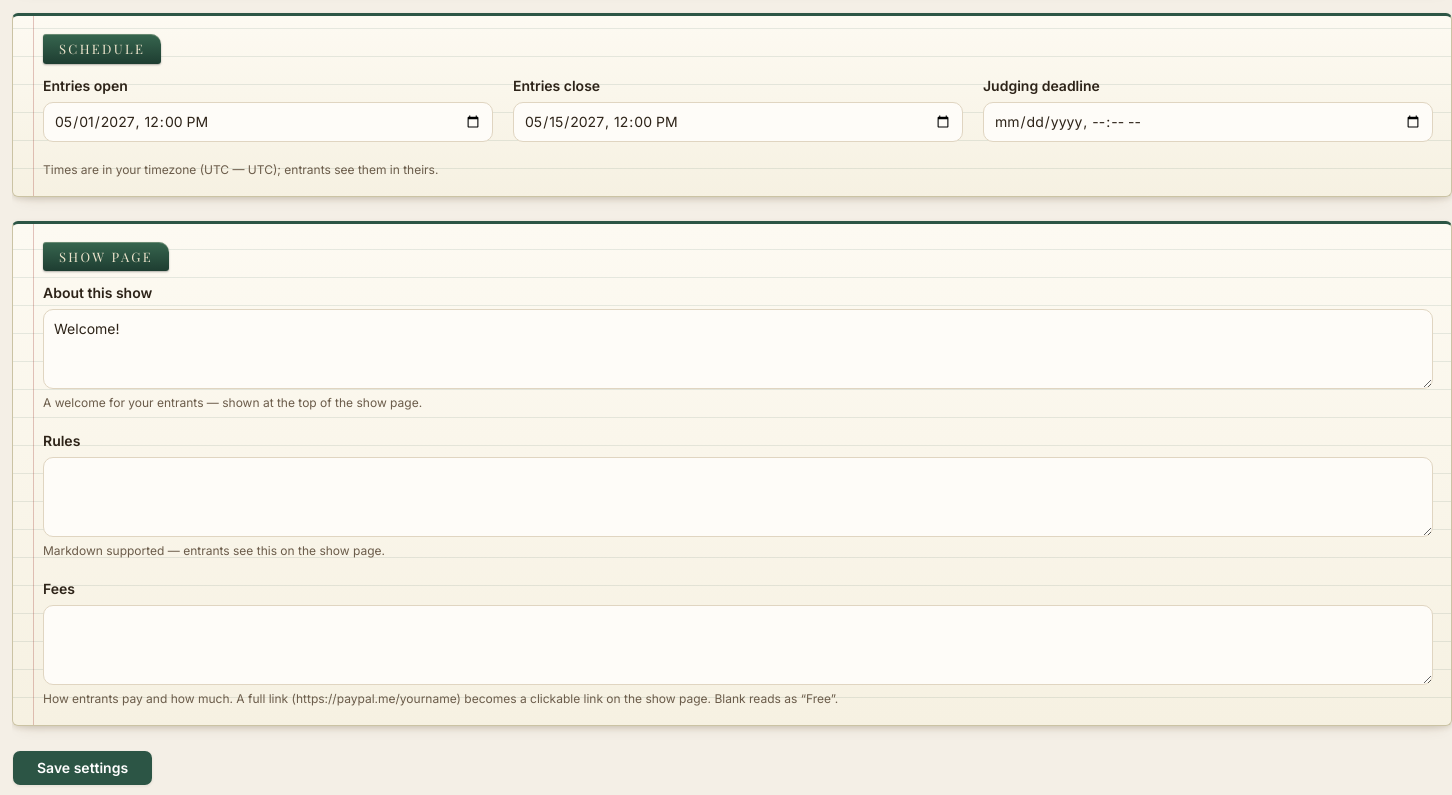
Test: ShowSettingsForm — draft locks and saving › refuses to save when nothing changed
(page scrolled)
Click the button with test id "settings-save".
click(83, 768)  # box [12,750,153,786]
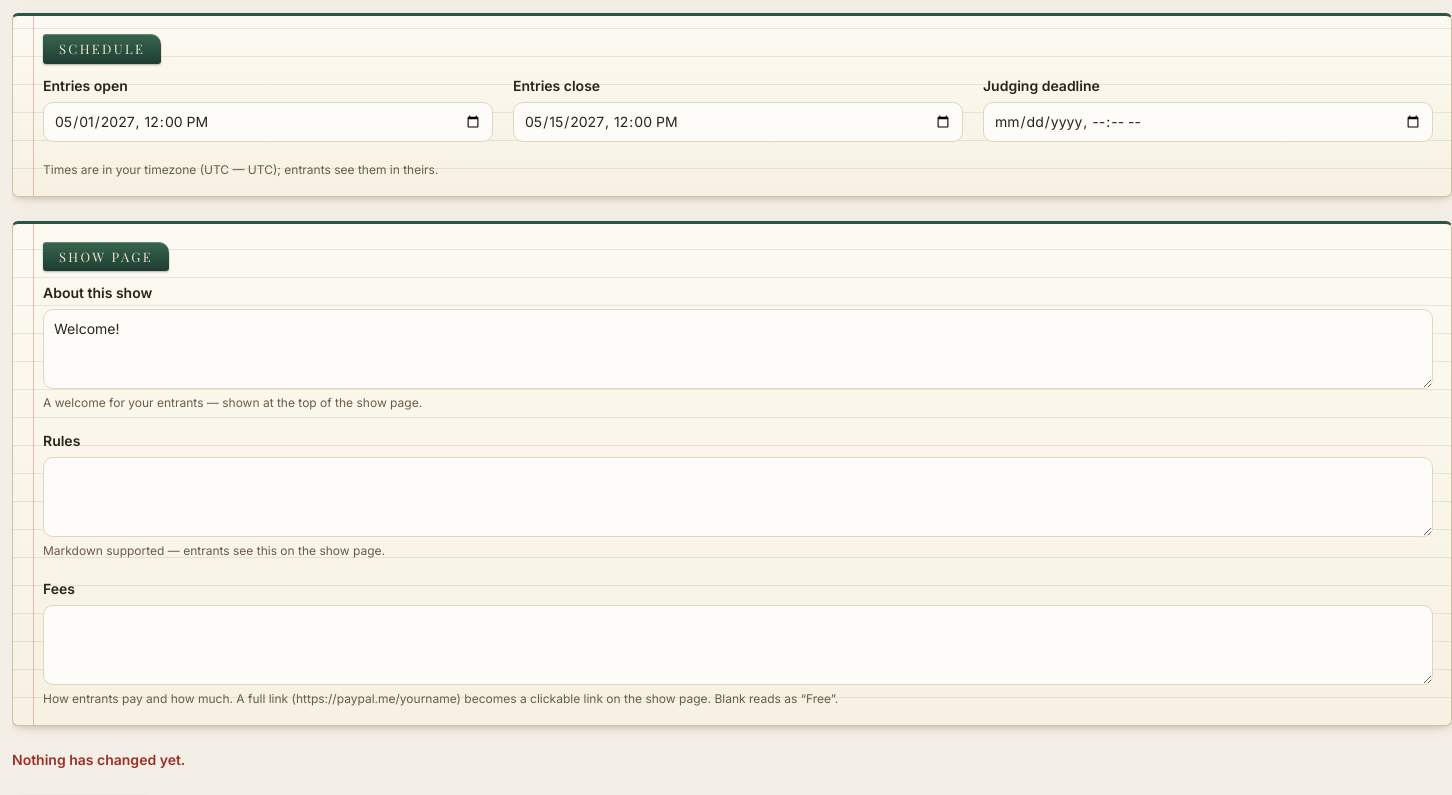
Expected: the text "Nothing has changed yet." is shown, [12,751,185,768]
